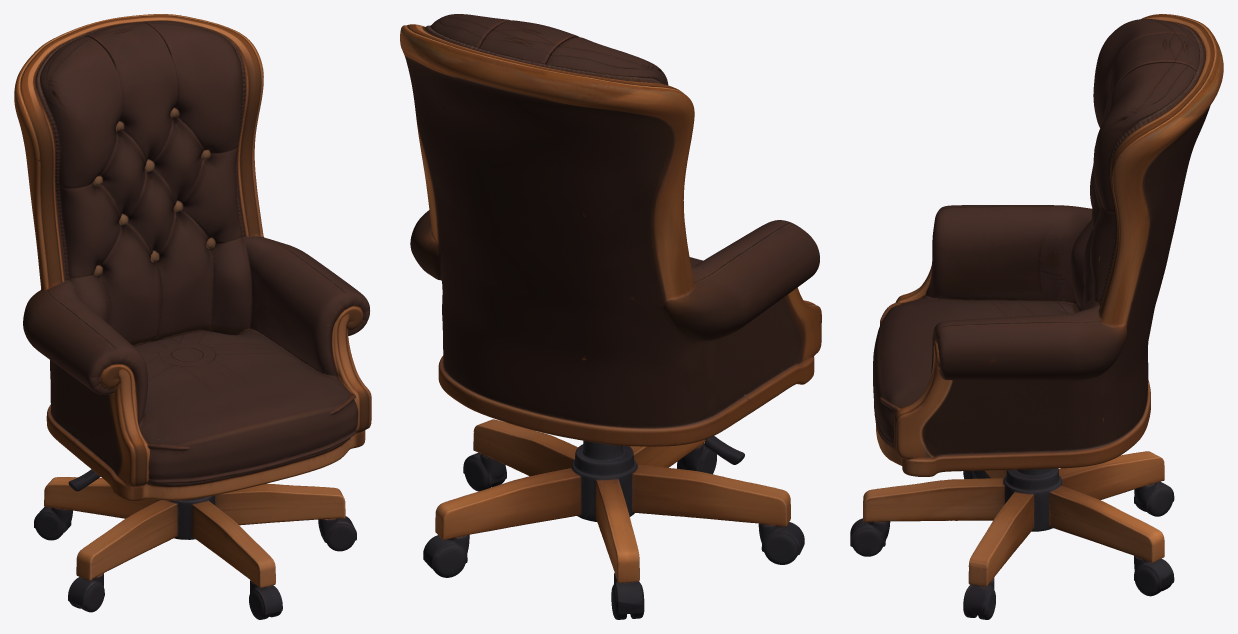
The model's file is Chair.glb.
3 renders of one model, left to right at view 1: azimuth 30°, elevation 25°; view 2: azimuth 150°, elevation 25°; view 3: azimuth 270°, elevation 25°, orthographic. The views are drawn at different scales.
Bounding box in the file's own units: 1.17 × 1.9 × 1.26.
Materials: 1 (1 with a texture image).
